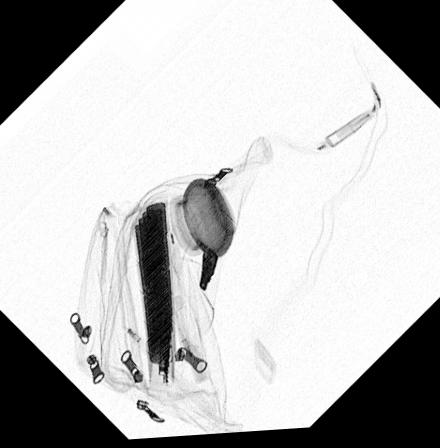Powerbank: (127, 201, 177, 389)
